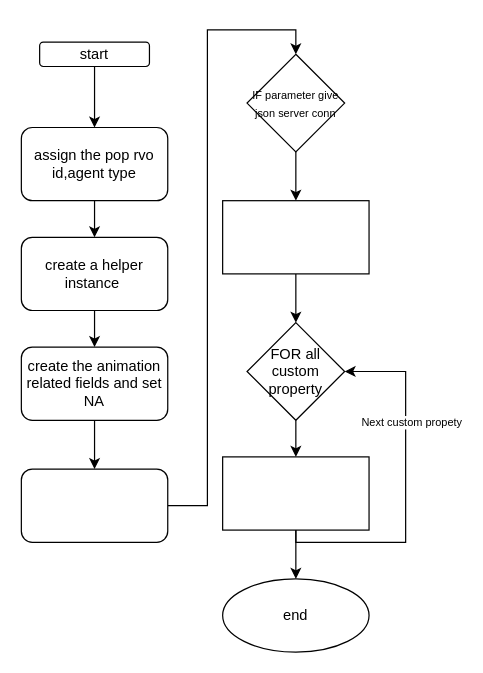
Some shapes in this 483 by 673 pixel diagram are drawn without their labels. Each missing label, with the centre of its shape:
"assign property" goes at (x=94, y=505).
"assign the json server connection" goes at (x=295, y=236).
"assign to the class" goes at (x=295, y=493).
